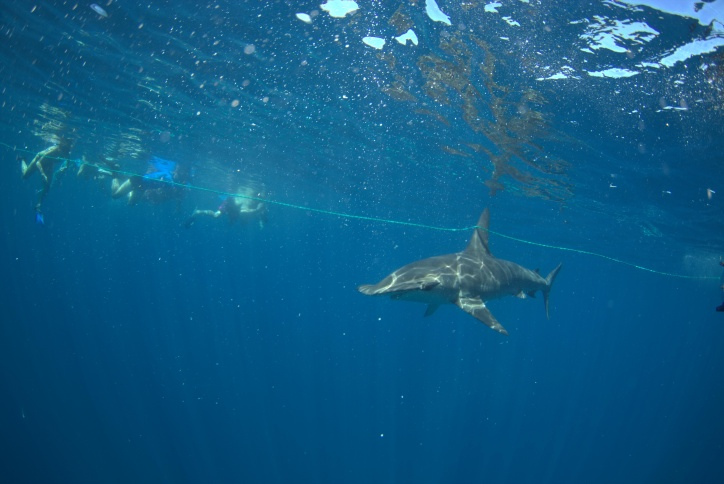Hammer: (338, 195, 580, 350)
